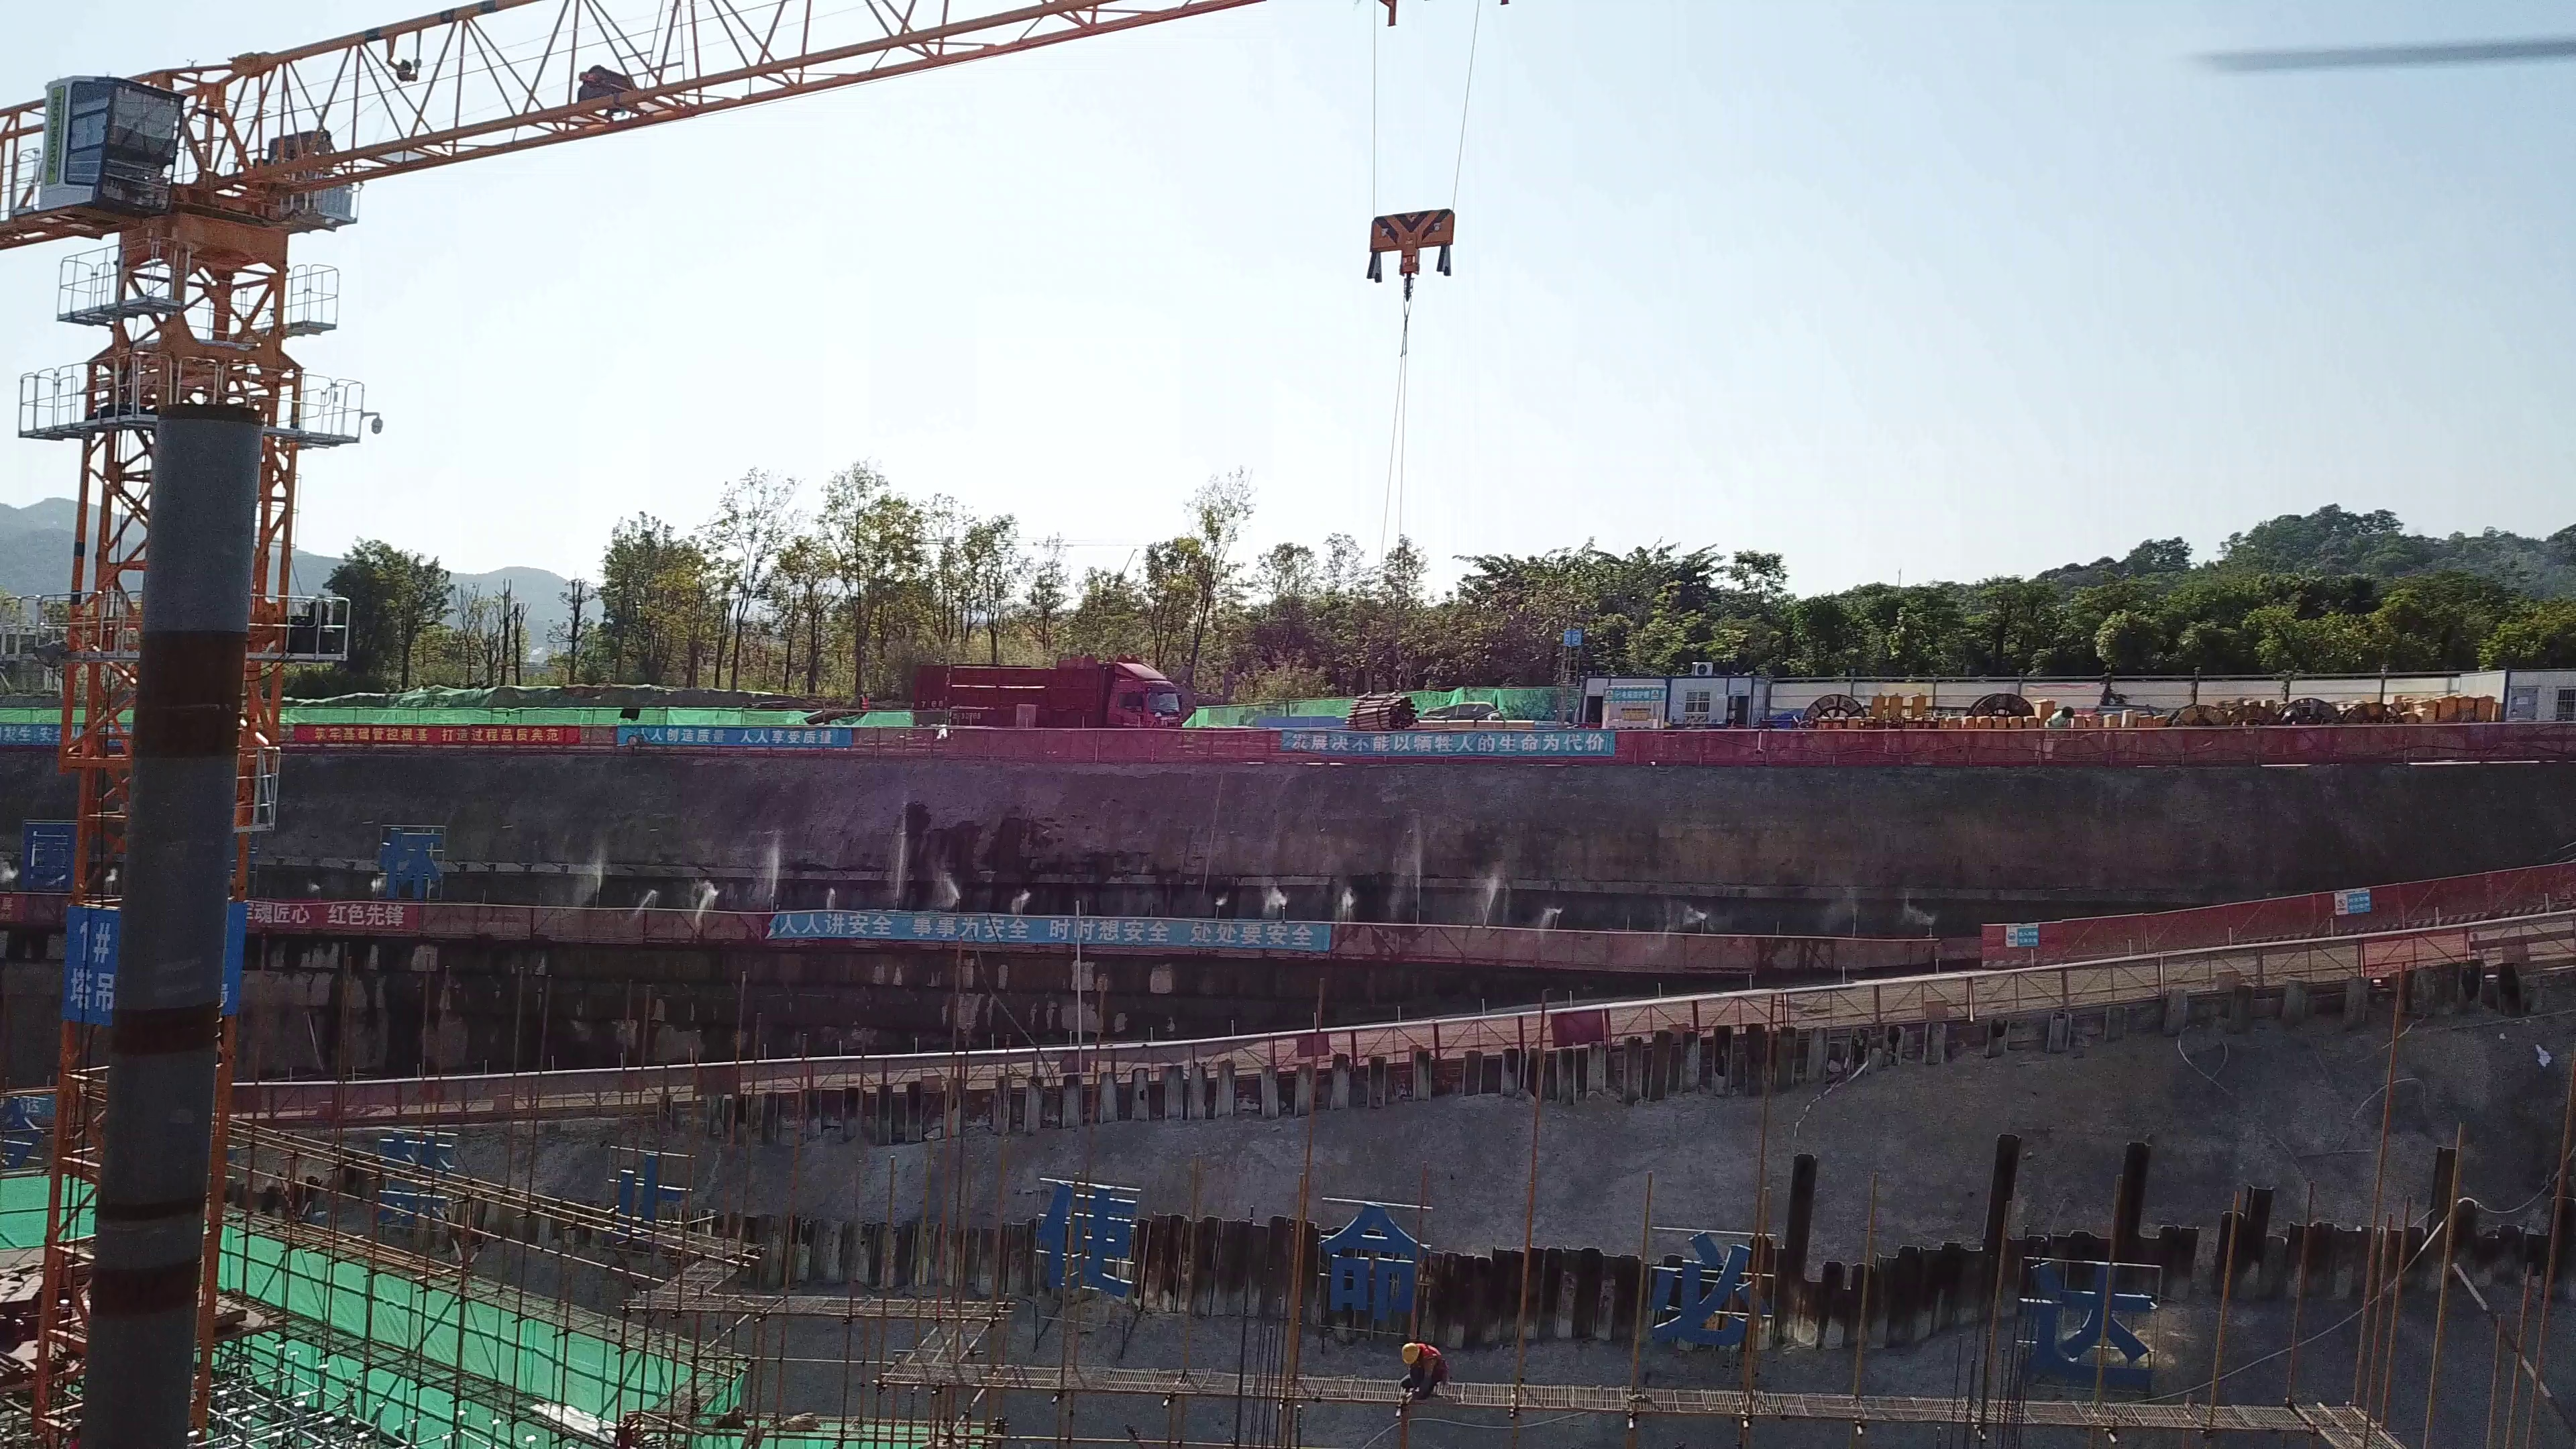fence: (1621, 718, 2576, 767), (1695, 972, 2069, 1050), (1336, 917, 1764, 975), (2282, 860, 2568, 941), (1972, 911, 2286, 969), (1440, 996, 1695, 1065), (857, 726, 1272, 765), (1193, 1022, 1436, 1086), (498, 906, 769, 954)
helmet: (1400, 1339, 1421, 1363)
hook: (1350, 195, 1469, 324)
person: (1391, 1335, 1454, 1401)
slogan: (771, 907, 1331, 959), (1274, 727, 1621, 760), (292, 721, 582, 748), (249, 893, 422, 934), (617, 725, 856, 749)
vest: (1422, 1344, 1448, 1376)
